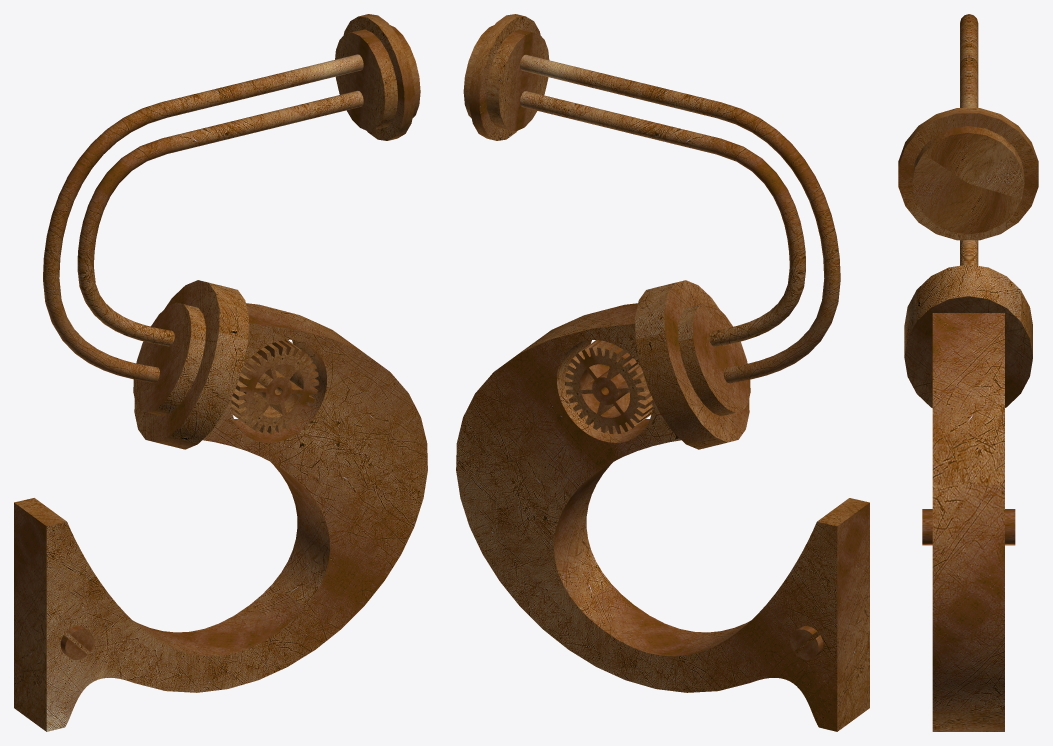
The picture shows the model from 3 angles, left to right: view 1: azimuth 30°, elevation 25°; view 2: azimuth 150°, elevation 25°; view 3: azimuth 270°, elevation 25°; orthographic projection. The views are drawn at different scales.
Visible parts, largest first — view 1: S, Line018, Tube_398, Line017, Cogwheel_265, Tube_399, Tube_393, Tube_394, Screw_840; view 2: S, Line018, Tube_398, Line017, Cogwheel_265, Tube_399, Tube_393, Tube_394, Screw_840; view 3: S, Tube_393, Tube_398, Tube_394, Line018, Screw_840, Line017.
Part boxes in pixels (bbox=[...]): S: bbox=[14, 303, 427, 731]; Line018: bbox=[43, 54, 363, 382]; Tube_398: bbox=[134, 280, 248, 449]; Line017: bbox=[77, 90, 363, 346]; Cogwheel_265: bbox=[231, 340, 318, 433]; Tube_399: bbox=[133, 302, 205, 416]; Tube_393: bbox=[335, 25, 420, 130]; Tube_394: bbox=[343, 14, 414, 140]; Screw_840: bbox=[60, 626, 93, 659]; S: bbox=[456, 303, 869, 731]; Line018: bbox=[520, 54, 840, 383]; Tube_398: bbox=[635, 280, 749, 449]; Line017: bbox=[520, 91, 805, 346]; Cogwheel_265: bbox=[565, 340, 652, 433]; Tube_399: bbox=[678, 302, 750, 416]; Tube_393: bbox=[463, 25, 549, 131]; Tube_394: bbox=[469, 14, 540, 140]; Screw_840: bbox=[790, 626, 823, 659]; S: bbox=[932, 313, 1004, 731]; Tube_393: bbox=[912, 126, 1024, 234]; Tube_398: bbox=[904, 264, 1032, 407]; Tube_394: bbox=[898, 108, 1038, 240]; Line018: bbox=[960, 14, 978, 107]; Screw_840: bbox=[922, 509, 1015, 545]; Line017: bbox=[960, 240, 978, 265].
Size of the model in its own units: 67.53 by 104 by 19.39.
1 material, 1 textured.
